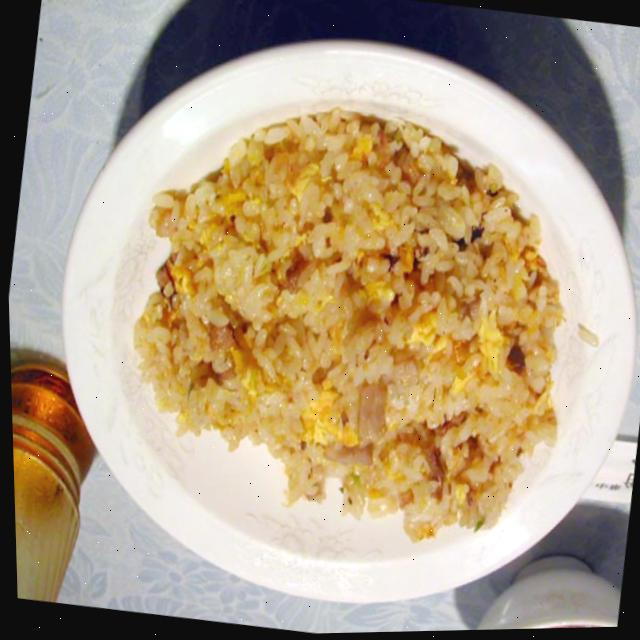米饭主食: (13, 0, 640, 632)
